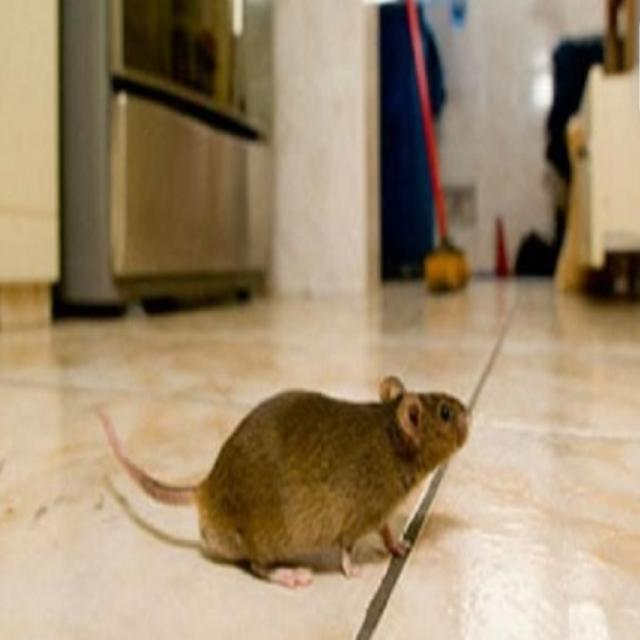rat: (198, 364, 488, 594)
